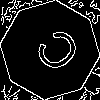C: (25, 25, 84, 82)
